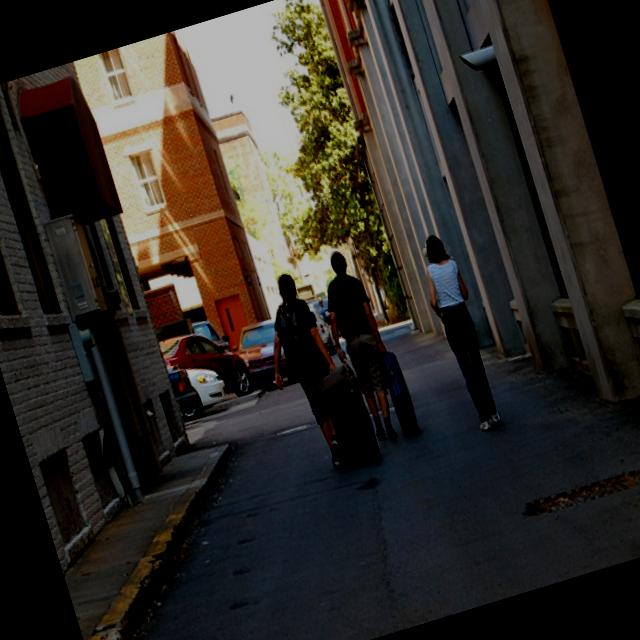Vehicle: (159, 320, 256, 416), (230, 316, 300, 395), (170, 360, 232, 422), (190, 314, 233, 357), (308, 300, 337, 356)
